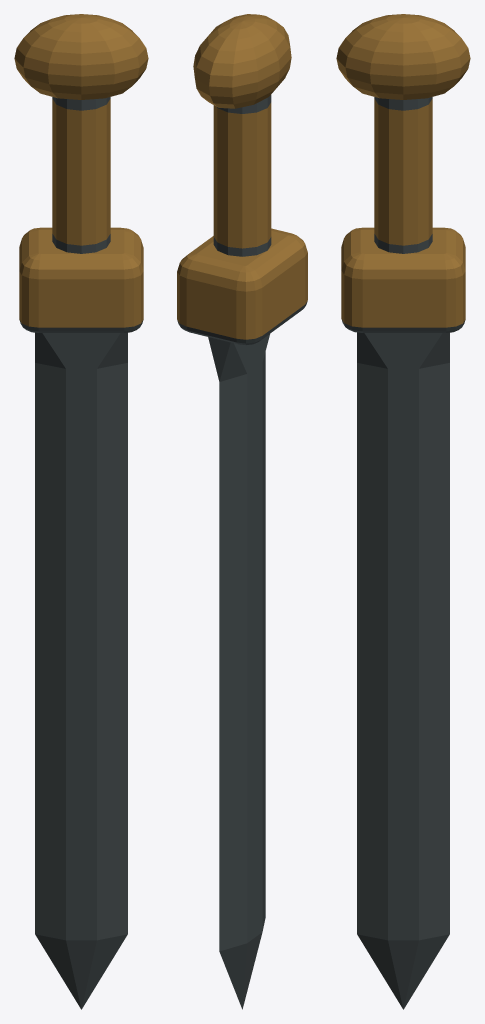
The model's file is Spatha.fbx.
3 views of the same model, side by side, from view 1: azimuth 90°, elevation 25°; view 2: azimuth 150°, elevation 25°; view 3: azimuth 270°, elevation 25° (orthographic).
Parts seen in each view (by area): view 1: Spatha Monocolor; view 2: Spatha Monocolor; view 3: Spatha Monocolor.
Part boxes in pixels (box(x1,y1,x2,y2)): Spatha Monocolor: box(14, 14, 148, 1009); Spatha Monocolor: box(177, 14, 307, 1009); Spatha Monocolor: box(336, 14, 470, 1009).
Bounding box in the file's own units: 10.03 × 114 × 14.02.
